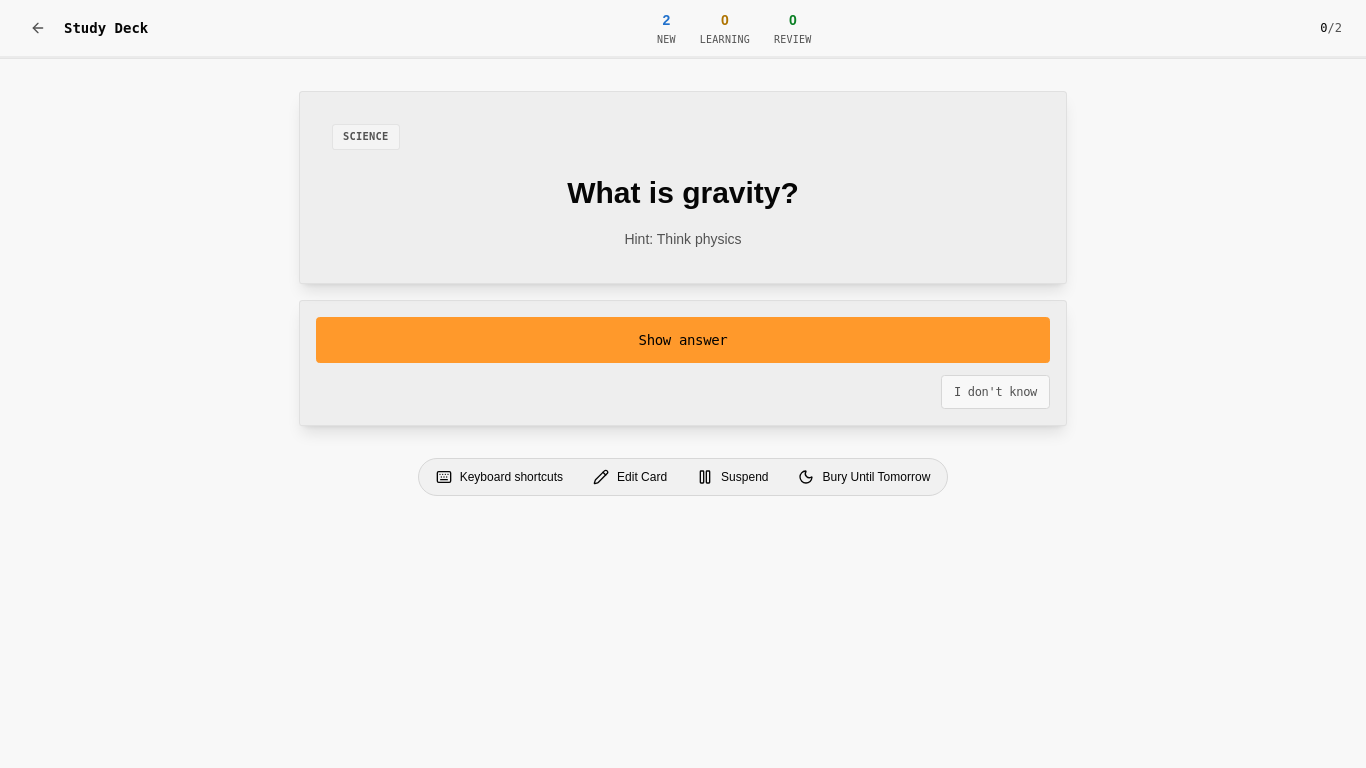
Test: StudyScreen › advances the queue after review and summarizes the final session
Expected: the heading "What is gravity?" is shown, [567,174,799,211]
Click the button "Show answer": (683, 340) [316,317,1050,363]
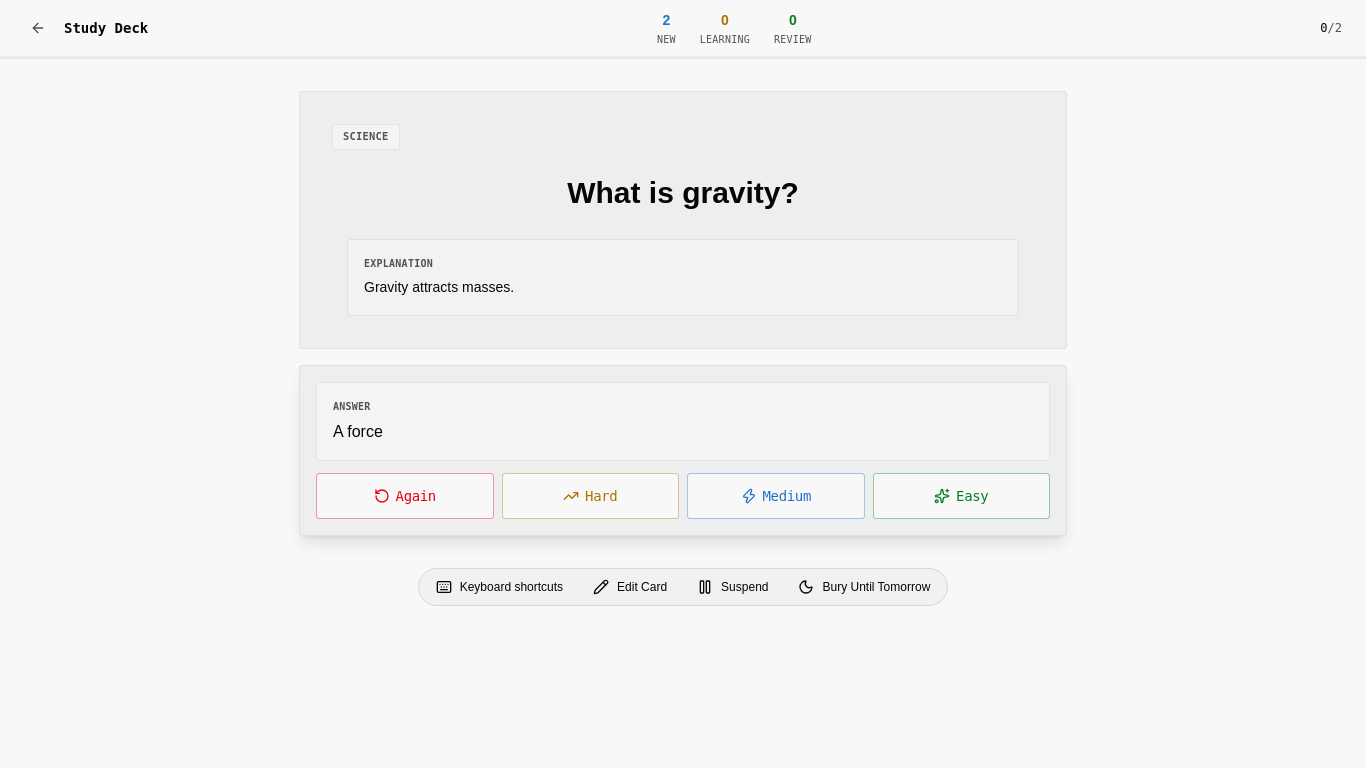
Click the button "Medium": (776, 496) [687,473,864,519]
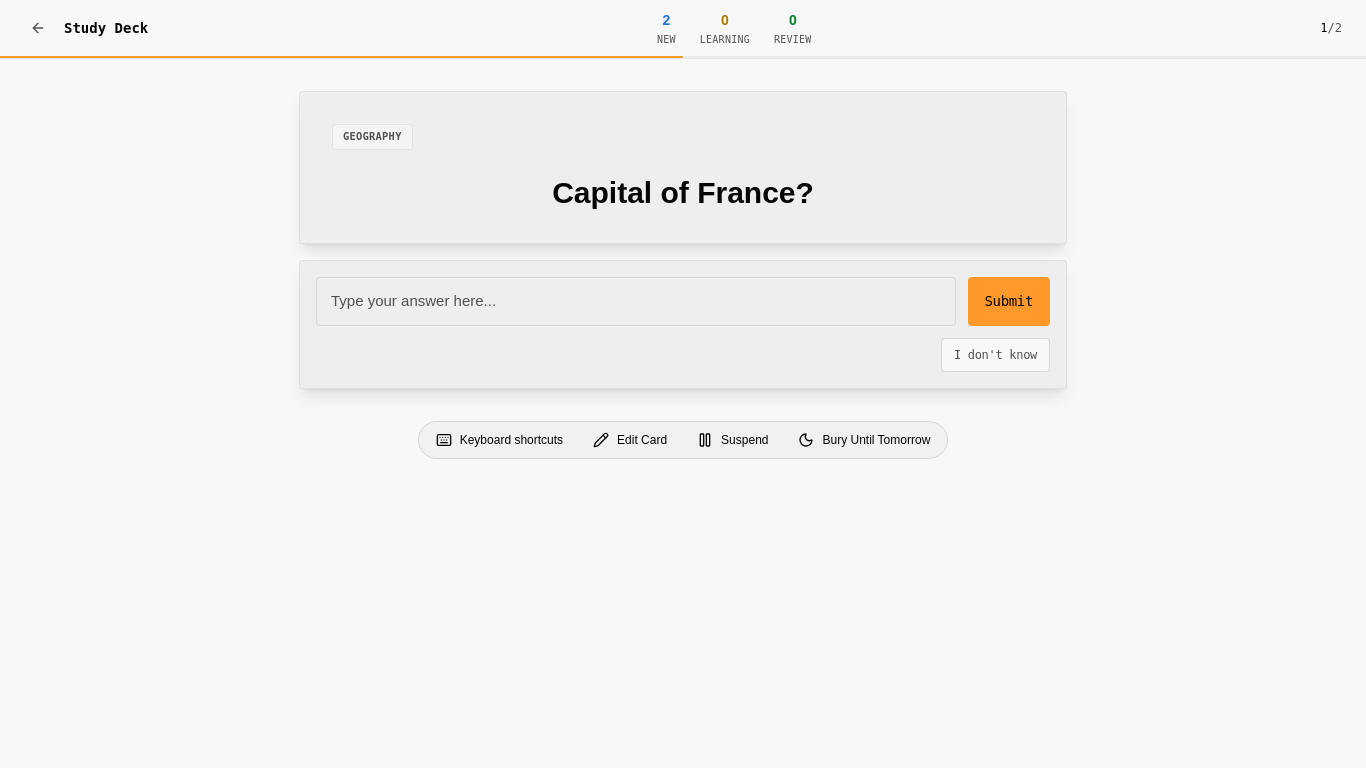
Result: the heading "Capital of France?" is shown at [552,174,814,211]
In the field labelled "your answer": (636, 301) [316,277,956,326], type "Paris"
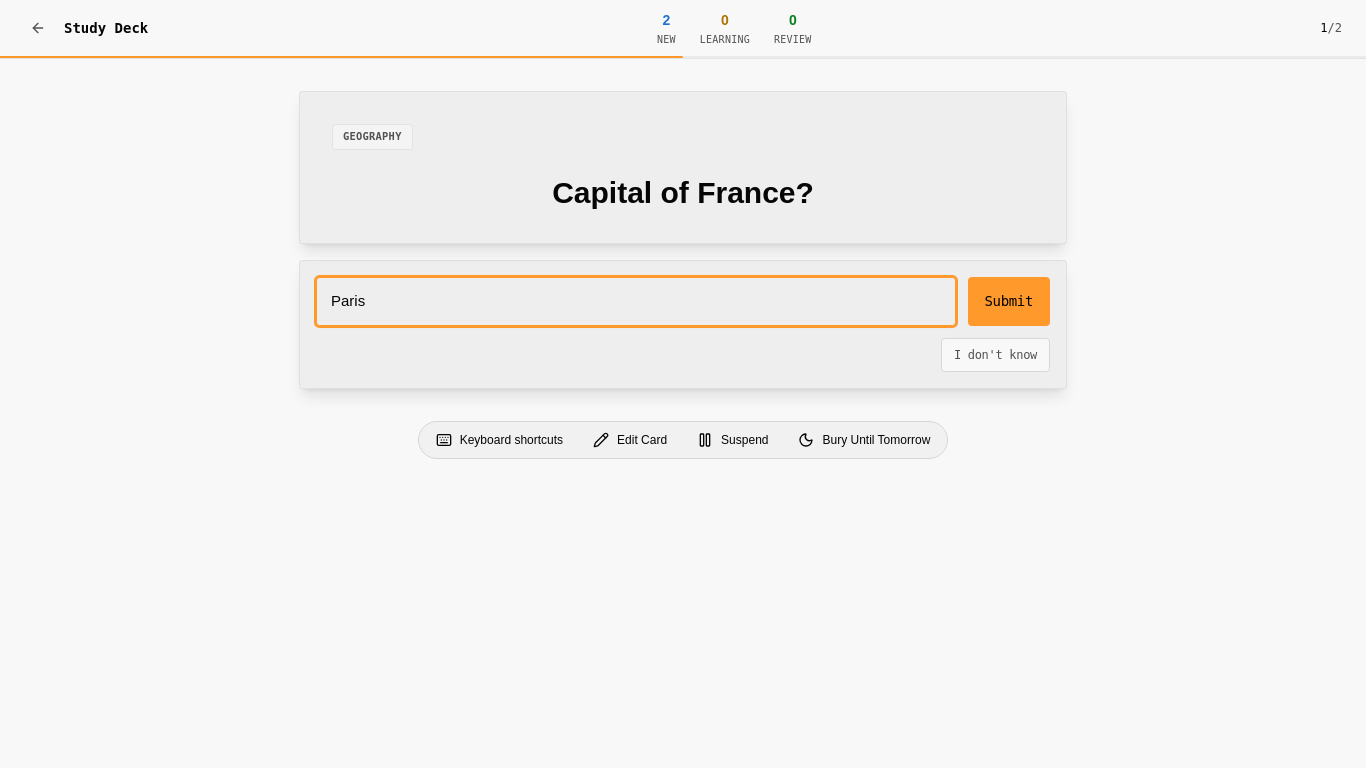
Click the button "Submit": (1009, 301) [968,277,1050,326]
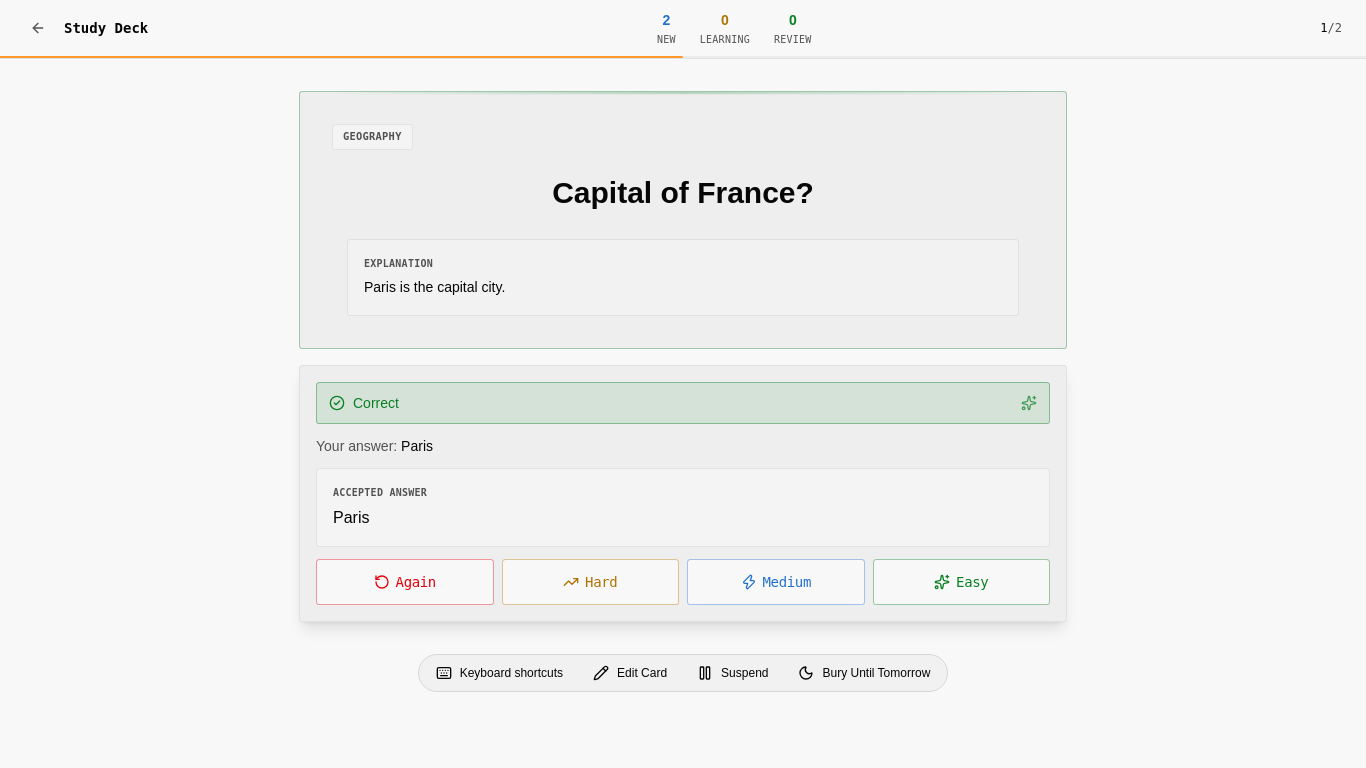
Click the button "Easy": (961, 582) [872,559,1050,605]
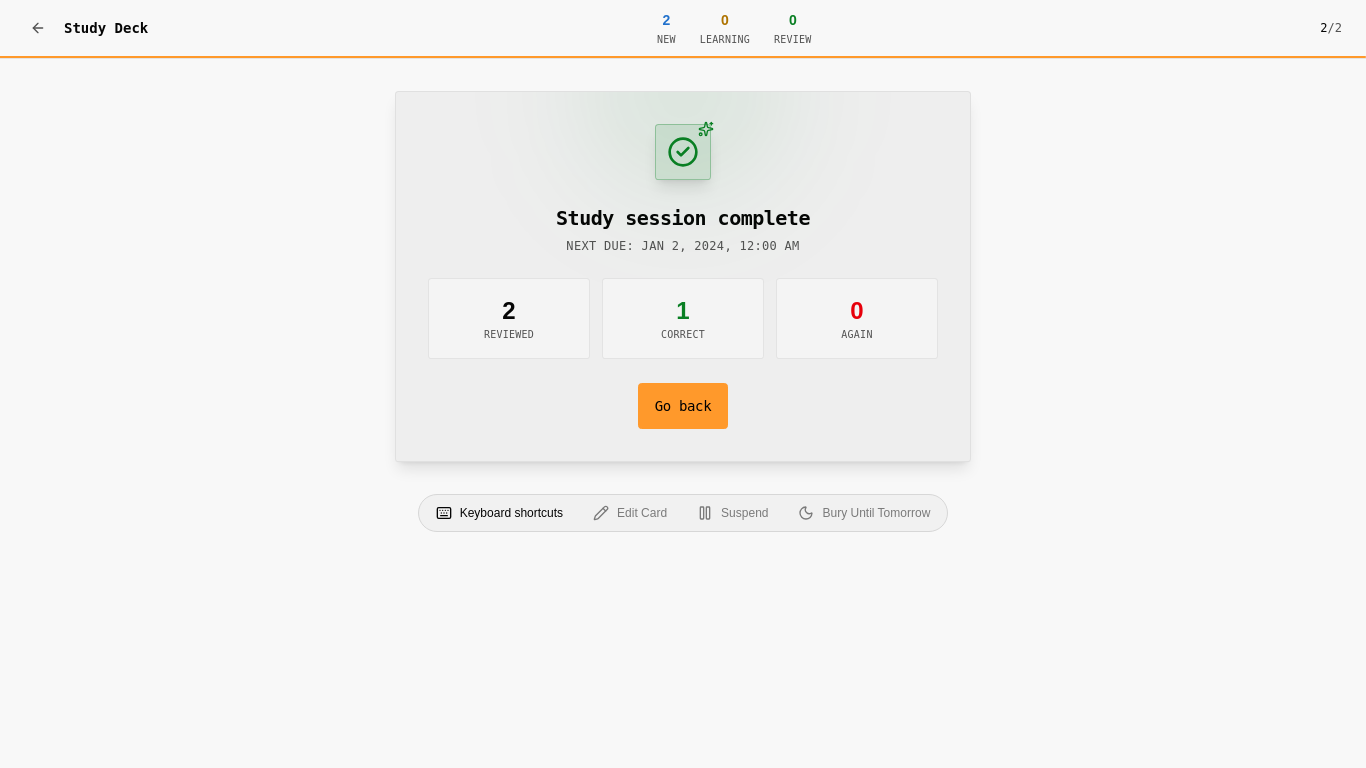
Expected: the 1st text "2" is shown, [662,10,670,30]
Result: the heading "Study session complete" is shown at [556,204,810,232]
Result: the text "Reviewed" is shown at [484,329,534,340]
